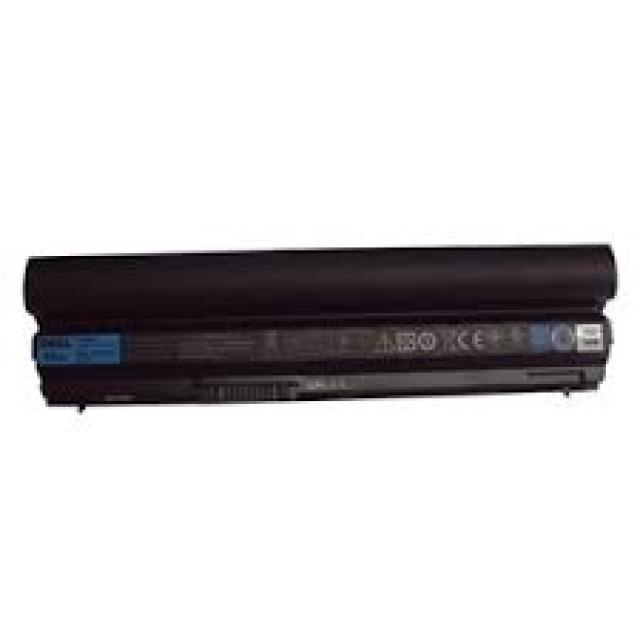Battery: (24, 236, 636, 411)
